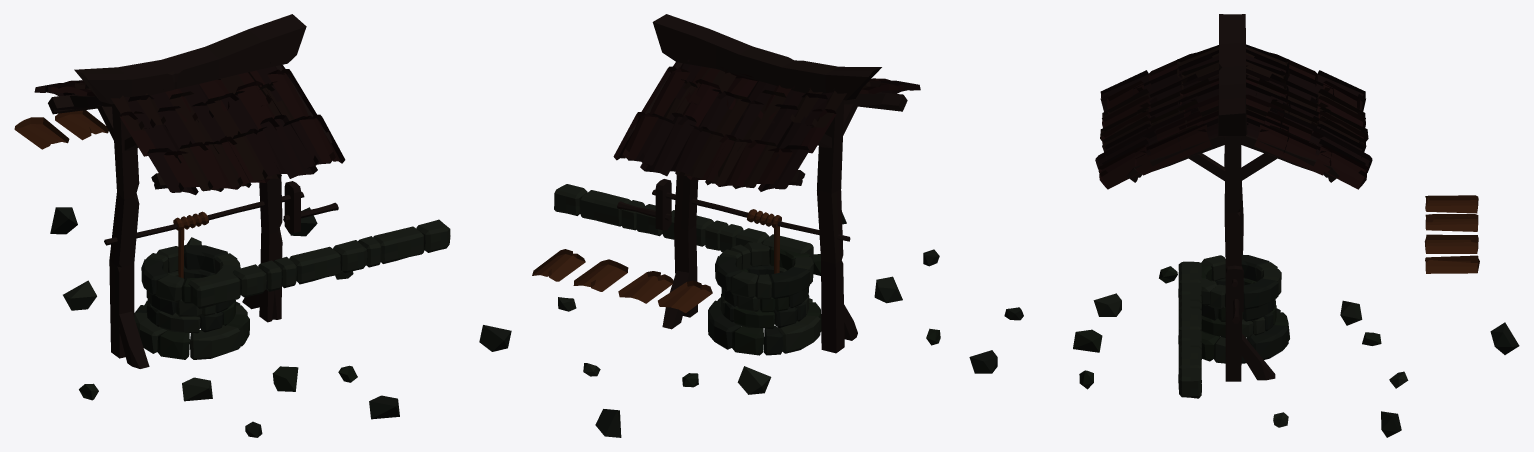
File: well_taller.obj
3 renders of one model, left to right at view 1: azimuth 30°, elevation 25°; view 2: azimuth 150°, elevation 25°; view 3: azimuth 270°, elevation 25°, orthographic. The views are drawn at different scales.
Parts seen in each view (by area): view 1: Cube.006, Cube.005, Cube, Cube.003, Cube.004, Cube.001, Cylinder.009, Cube.009, Cube.012, Cube.015, Cube.002, Cylinder.007 (+41 smaller); view 2: Cube.006, Cube.005, Cube.003, Cube, Cube.004, Cube.001, Cylinder.009, Cube.002, Cube.015, Cylinder.016, Cylinder.007, Cylinder.017 (+36 smaller); view 3: Cube.004, Cube.006, Cylinder.017, Cube.003, Cylinder.007, Cube, Cylinder.009, Cylinder.018, Cylinder.016, Cylinder.013, Cube.018, Cylinder.002 (+34 smaller).
Part boxes in pixels (x1,y1,x2,y2): Cube.006: (74,14,306,104); Cube.005: (109,104,139,358); Cube: (134,300,249,359); Cube.003: (141,245,240,303); Cube.004: (259,177,282,322); Cube.001: (146,300,235,333); Cylinder.009: (260,115,317,178); Cube.009: (188,271,240,308); Cube.012: (289,246,340,284); Cube.015: (373,226,424,263); Cube.002: (146,265,234,316); Cylinder.007: (299,114,345,163); Cube.006: (652,14,881,100); Cube.005: (817,100,844,353); Cube.003: (715,242,813,299); Cube: (708,297,821,355); Cube.004: (674,175,698,317); Cube.001: (720,294,809,328); Cylinder.009: (640,112,696,176); Cube.002: (721,264,809,312); Cube.015: (579,190,630,226); Cylinder.016: (758,80,920,191); Cylinder.007: (613,112,658,160); Cylinder.017: (641,66,690,129); Cube.004: (1224,136,1242,381); Cube.006: (1217,14,1247,136); Cylinder.017: (1134,123,1332,175); Cube.003: (1200,254,1281,309); Cylinder.007: (1098,145,1368,189); Cube: (1201,308,1289,363); Cylinder.009: (1095,127,1372,172); Cylinder.018: (1132,53,1334,100); Cylinder.016: (1100,70,1365,111); Cylinder.013: (1102,95,1365,131); Cube.018: (1133,135,1332,173); Cylinder.002: (1424,234,1478,253).
Size of what is drawn, in the model's own units: 6.52 by 5.03 by 8.71.
